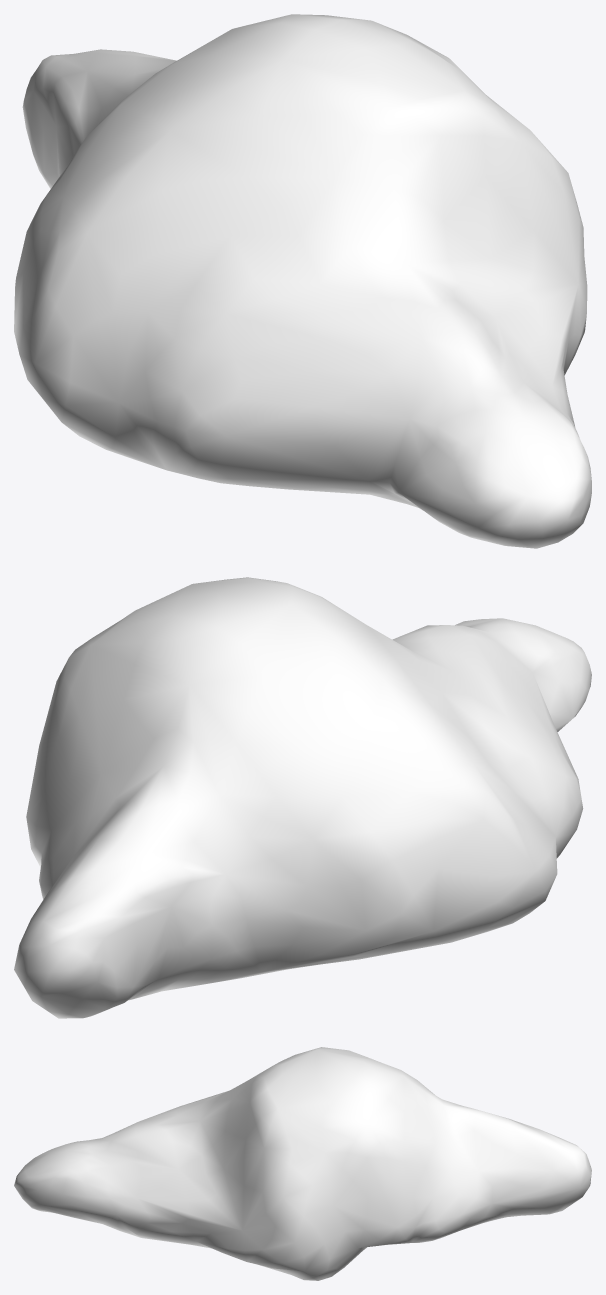
The model's file is Cloud02.fbx.
The picture shows the model from 3 angles, top to bottom: view 1: azimuth 30°, elevation 25°; view 2: azimuth 150°, elevation 25°; view 3: azimuth 270°, elevation 25°; orthographic projection. The views are drawn at different scales.
Visible parts, largest first — view 1: Cloud02; view 2: Cloud02; view 3: Cloud02.
Boxes of the visible parts, x1,y1,x2,y2 form: Cloud02: [14, 14, 591, 548]; Cloud02: [14, 577, 591, 1018]; Cloud02: [14, 1047, 591, 1280].
Bounding box in the file's own units: 1763 × 1055 × 3096.
